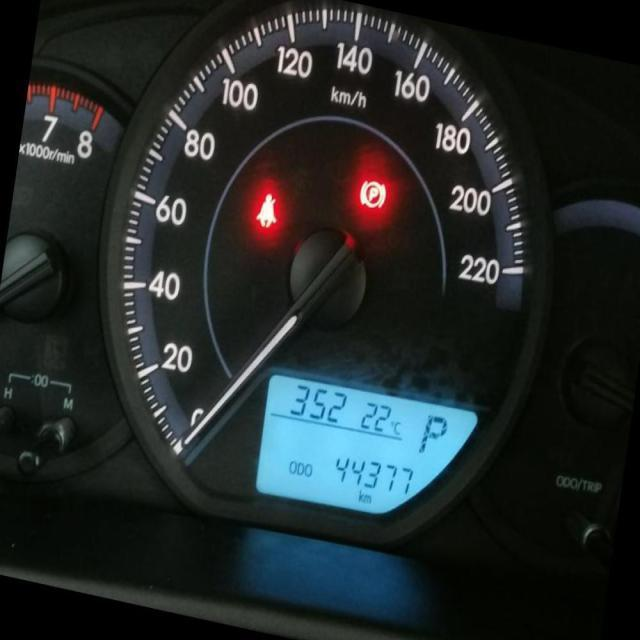Seat Belt: (255, 191, 278, 231)
